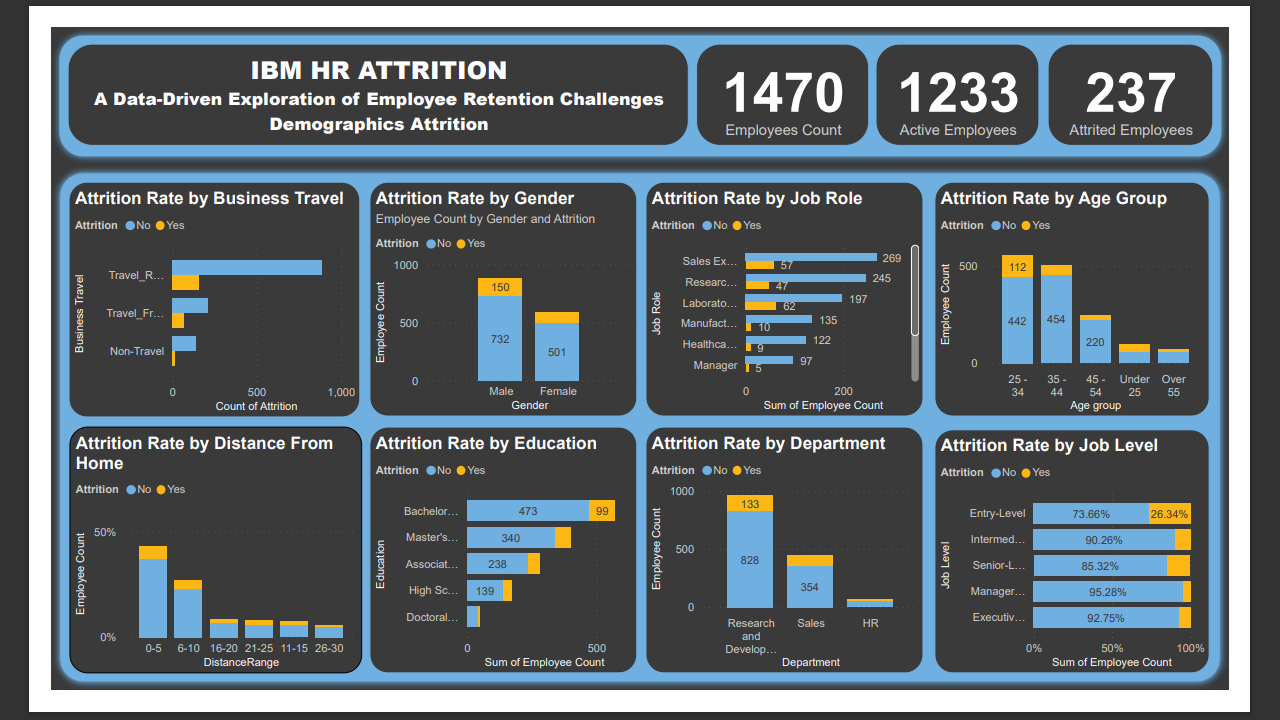

The page's visual inventory and layout, read from the dashboard file:
{"tool":"powerbi","page":{"name":"Page 2","canvas":[1280,720],"ordinal":1},"visuals":[{"type":"shape","box":[0,149,1279.4,571],"z":0},{"type":"columnChart","title":"Attrition Rate by Age Group","fields":{"Category":["Table1.CF_age band"],"Series":["Table1.Attrition"],"Y":["Sum(Table1.Employee Count)"]},"box":[960,168.3,298.8,254.8],"z":1000},{"type":"columnChart","title":"Attrition Rate by Department","fields":{"Category":["Table1.Department"],"Series":["Table1.Attrition"],"Y":["Sum(Table1.Employee Count)"]},"box":[646.1,433.7,301.8,268.4],"z":2000},{"type":"columnChart","title":"Attrition Rate by Gender","fields":{"Category":["Table1.Gender"],"Series":["Table1.Attrition"],"Y":["Sum(Table1.Employee Count)"]},"box":[345.8,168.3,291.2,254.8],"z":3000},{"type":"clusteredBarChart","title":"Attrition Rate by Business Travel","fields":{"Category":["Table1.Business Travel"],"Y":["CountNonNull(Table1.Attrition)"],"Series":["Table1.Attrition"]},"box":[19,168,316.9,255.6],"z":4000},{"type":"barChart","title":"Attrition Rate by Education","fields":{"Category":["Table1.Education"],"Series":["Table1.Attrition"],"Y":["Sum(Table1.Employee Count)"]},"box":[345.8,433.7,291.2,268.4],"z":5000},{"type":"clusteredBarChart","title":"Attrition Rate by Job Role","fields":{"Category":["Table1.Job Role"],"Y":["Sum(Table1.Employee Count)"],"Series":["Table1.Attrition"]},"box":[646.1,168.3,301.8,254.8],"z":6000},{"type":"hundredPercentStackedBarChart","title":"Attrition Rate by Job Level","fields":{"Y":["Sum(Table1.Employee Count)"],"Category":["Table1.Job Level"],"Series":["Table1.Attrition"]},"box":[960,436.8,298.8,265.4],"z":7000},{"type":"shape","box":[0,0,1280,148.6],"z":8000},{"type":"card","fields":{"Values":["CountNonNull(Table1.Attrition)"]},"box":[1082.8,18.2,180.5,110.7],"z":9000},{"type":"card","fields":{"Values":["CountNonNull(Table1.Attrition)"]},"box":[700.7,18.2,188.1,110.7],"z":10000},{"type":"card","fields":{"Values":["CountNonNull(Table1.Attrition)"]},"box":[896.3,18.2,177.4,110.7],"z":11000},{"type":"textbox","box":[18.2,18.2,674.9,110.7],"z":12000},{"type":"columnChart","title":"Attrition Rate by Distance From Home","fields":{"Category":["Table1.DistanceRange"],"Series":["Table1.Attrition"],"Y":["Sum(Table1.Employee Count)"]},"box":[19.7,433.7,318.5,268.4],"z":13000}]}

Visuals, with their boxes in screenshot pixels (x1, y1, x2, y2), scaled from the page's 1280x720 canvas onto the 1280x720 screenshot:
shape: (x1=0, y1=149, x2=1279, y2=719)
"Attrition Rate by Age Group" columnChart: (x1=960, y1=168, x2=1259, y2=423)
"Attrition Rate by Department" columnChart: (x1=646, y1=434, x2=948, y2=702)
"Attrition Rate by Gender" columnChart: (x1=346, y1=168, x2=637, y2=423)
"Attrition Rate by Business Travel" clusteredBarChart: (x1=19, y1=168, x2=336, y2=424)
"Attrition Rate by Education" barChart: (x1=346, y1=434, x2=637, y2=702)
"Attrition Rate by Job Role" clusteredBarChart: (x1=646, y1=168, x2=948, y2=423)
"Attrition Rate by Job Level" hundredPercentStackedBarChart: (x1=960, y1=437, x2=1259, y2=702)
shape: (x1=0, y1=0, x2=1279, y2=149)
card - CountNonNull(Table1.Attrition): (x1=1083, y1=18, x2=1263, y2=129)
card - CountNonNull(Table1.Attrition): (x1=701, y1=18, x2=889, y2=129)
card - CountNonNull(Table1.Attrition): (x1=896, y1=18, x2=1074, y2=129)
textbox: (x1=18, y1=18, x2=693, y2=129)
"Attrition Rate by Distance From Home" columnChart: (x1=20, y1=434, x2=338, y2=702)
